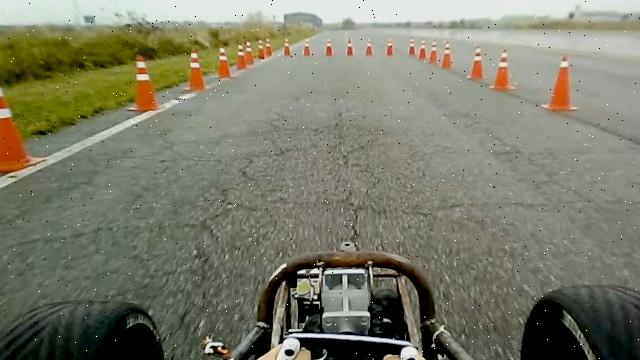red cone: (0, 74, 47, 172), (541, 55, 579, 112), (126, 54, 161, 111), (488, 48, 516, 91), (183, 49, 208, 91), (466, 46, 486, 81), (214, 45, 232, 79), (440, 41, 452, 69), (236, 43, 247, 70), (428, 40, 438, 64), (417, 39, 427, 60), (385, 37, 394, 56), (407, 37, 416, 56), (257, 39, 265, 59), (324, 38, 332, 56), (365, 38, 373, 56), (303, 38, 311, 56), (346, 36, 353, 55), (283, 38, 290, 56)
